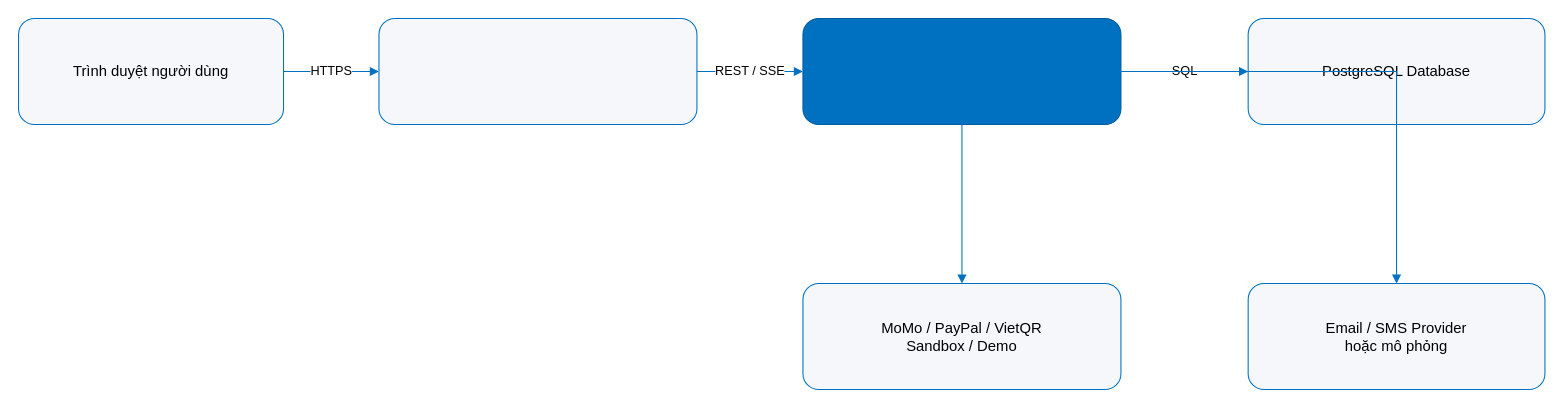
Some shapes in this 1563 by 408 pixel diagram are drawn without their labels. Each missing label, with the centre of its shape:
"Railway / Render Node.js Express API" goes at point 961,71.
"Vercel / Static Hosting Customer, Partner, Admin" goes at point 537,71.
